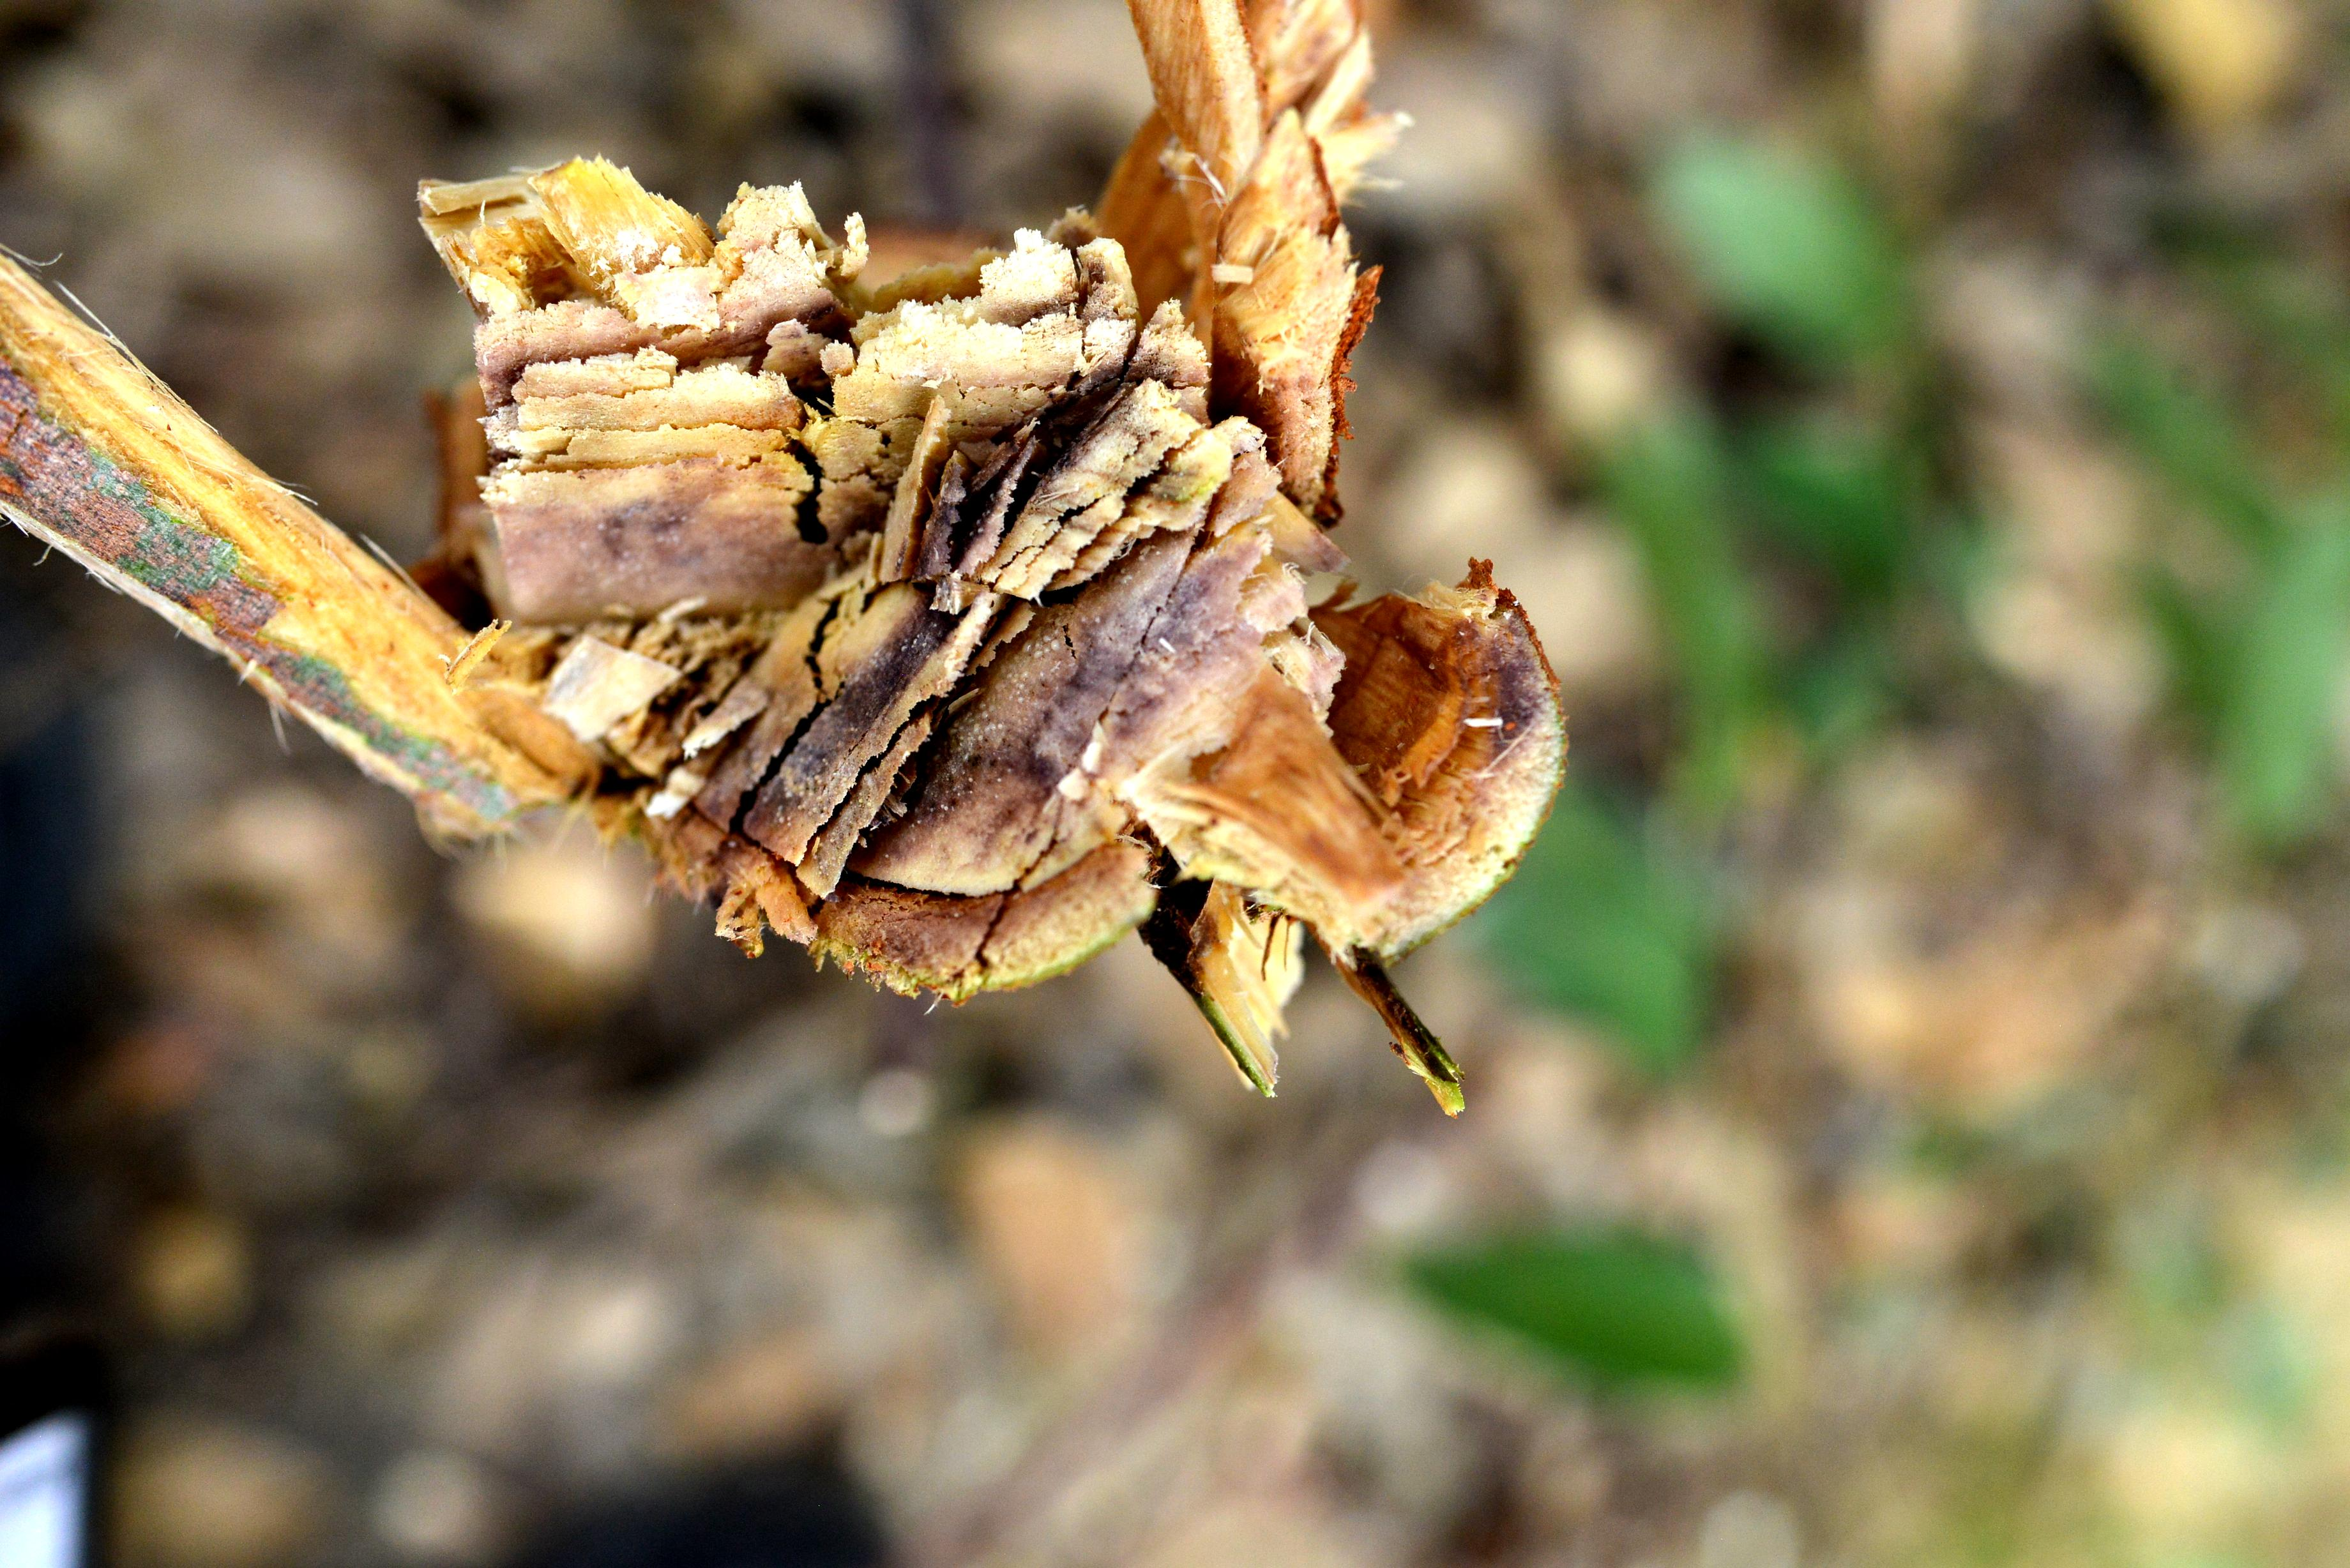Ralstonia: (752, 367, 1116, 835), (534, 495, 749, 591), (1153, 558, 1256, 698), (562, 194, 688, 280)
